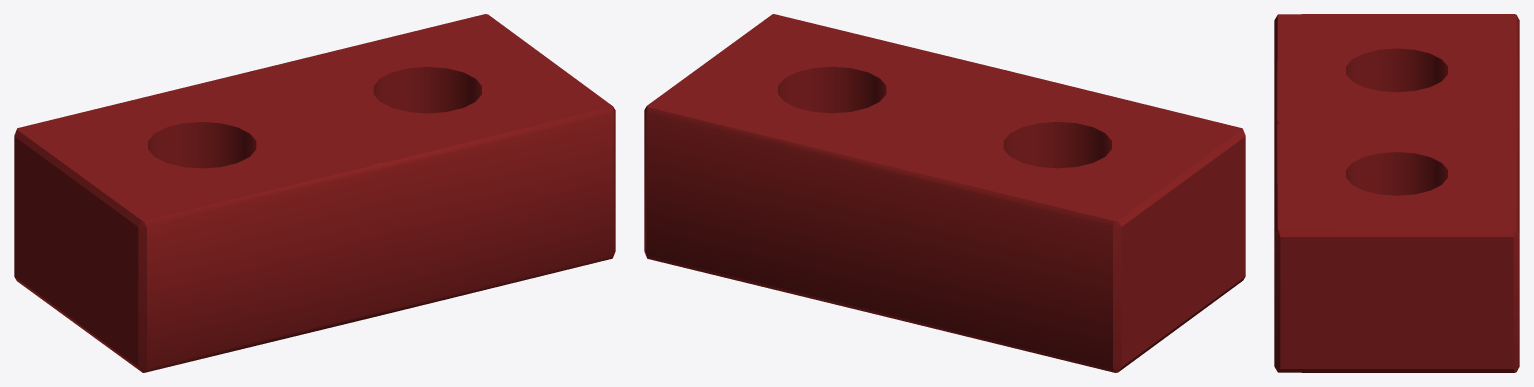
3 renders of one model, left to right at view 1: azimuth 30°, elevation 25°; view 2: azimuth 150°, elevation 25°; view 3: azimuth 270°, elevation 25°, orthographic. The views are drawn at different scales.
Visible parts, largest first — view 1: Cylinder003; view 2: Cylinder003; view 3: Cylinder003.
Part boxes in pixels (x1=…): Cylinder003: x1=14, y1=14, x2=615, y2=372; Cylinder003: x1=644, y1=14, x2=1245, y2=372; Cylinder003: x1=1274, y1=14, x2=1519, y2=372.
Size of the model in its own units: 54.15 by 16.44 by 25.62.
